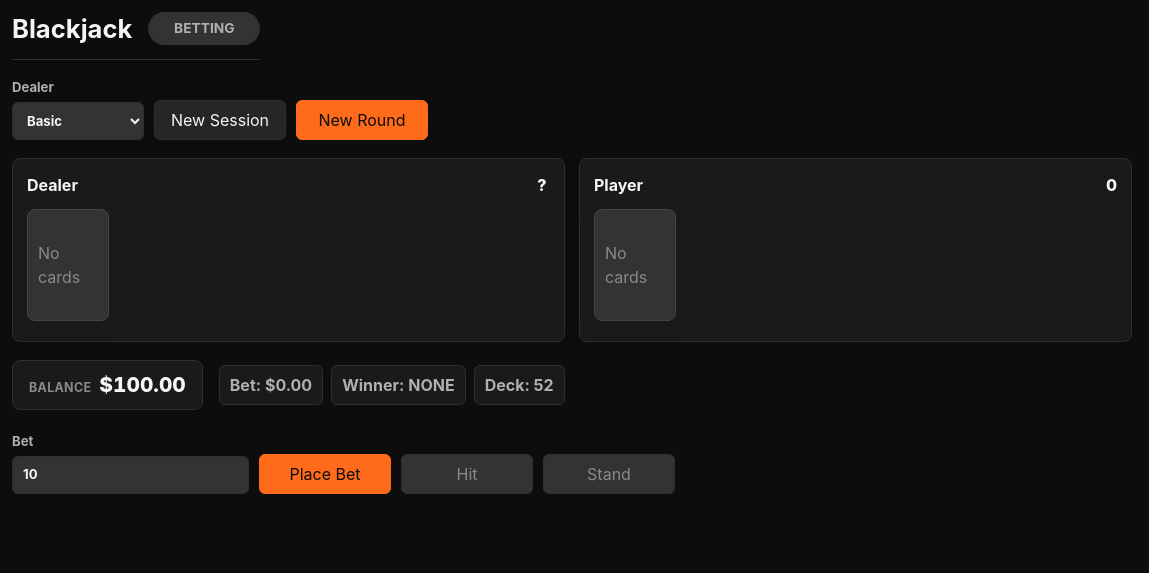
it: Area 1 - network failure during mutating actions › placeBet failure: error surfaced, busy cleared, no partial state
Click the button "Place Bet". click: (325, 474)
box: [259, 454, 391, 494]
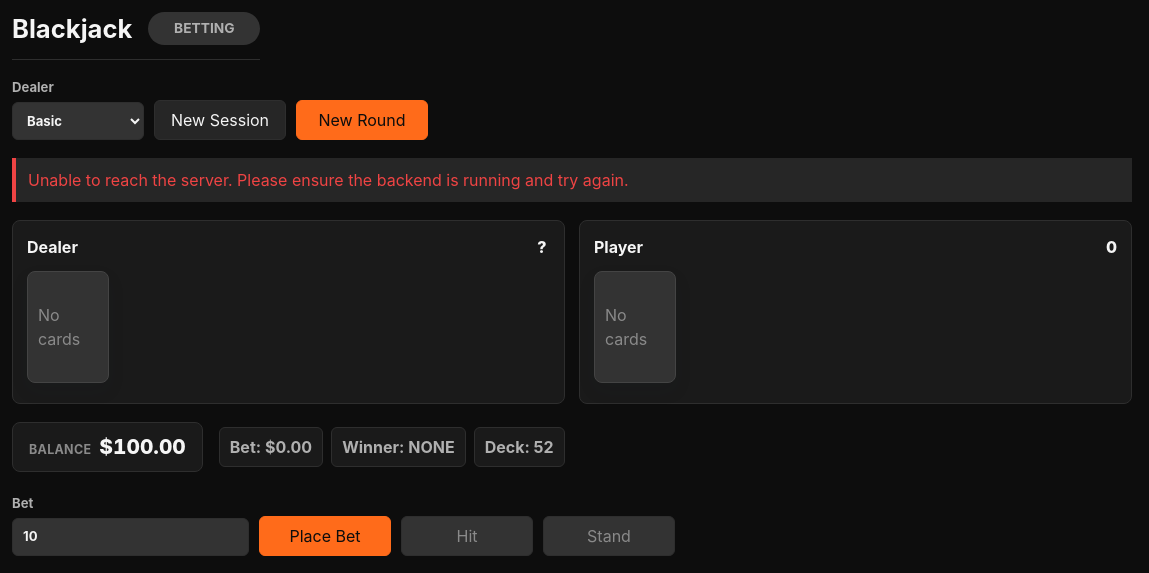
Check: the button "Place Bet" is enabled, box [259, 516, 391, 556]
Check: the message is shown, box [12, 158, 1132, 202]
Check: the message reads "Unable to reach the server. Please ensure the backend is running and try again.", box [28, 170, 629, 190]
